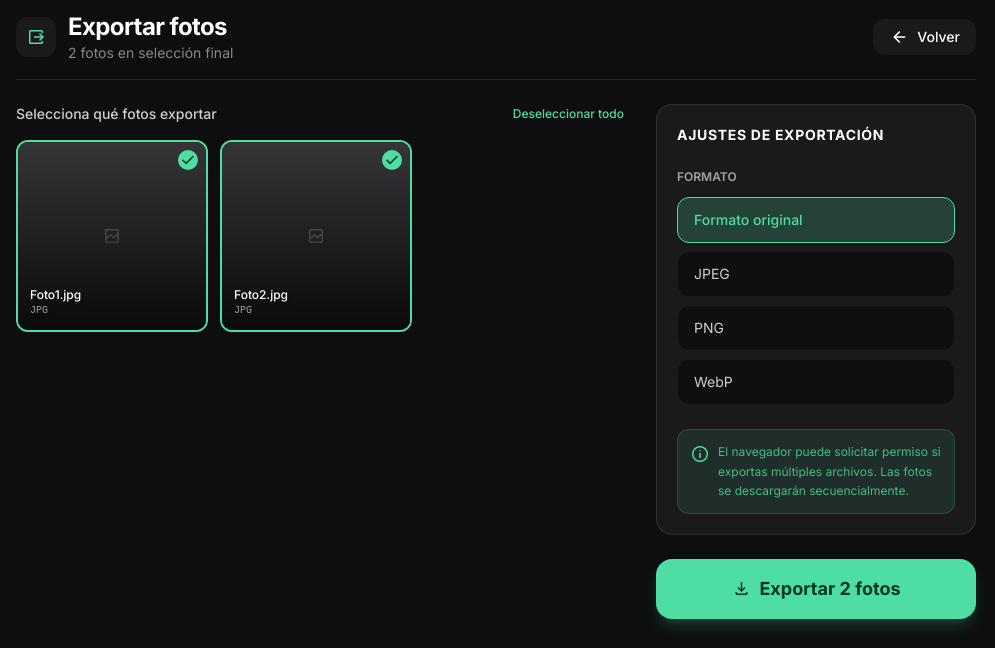
Test case: ExportUI (Phase 2.7) › 2. El botón exportar actualiza cantidad cuando se deselecciona
expect the button with test id "export-start-btn" reads "Exportar 2 fotos": met, box [656,558,976,618]
Find select all/deselect all button
What coordinates should you click on to do the following:
click the button "Deseleccionar todo"
I would click on:
 (568, 114)
Its box is [513,106,624,122].
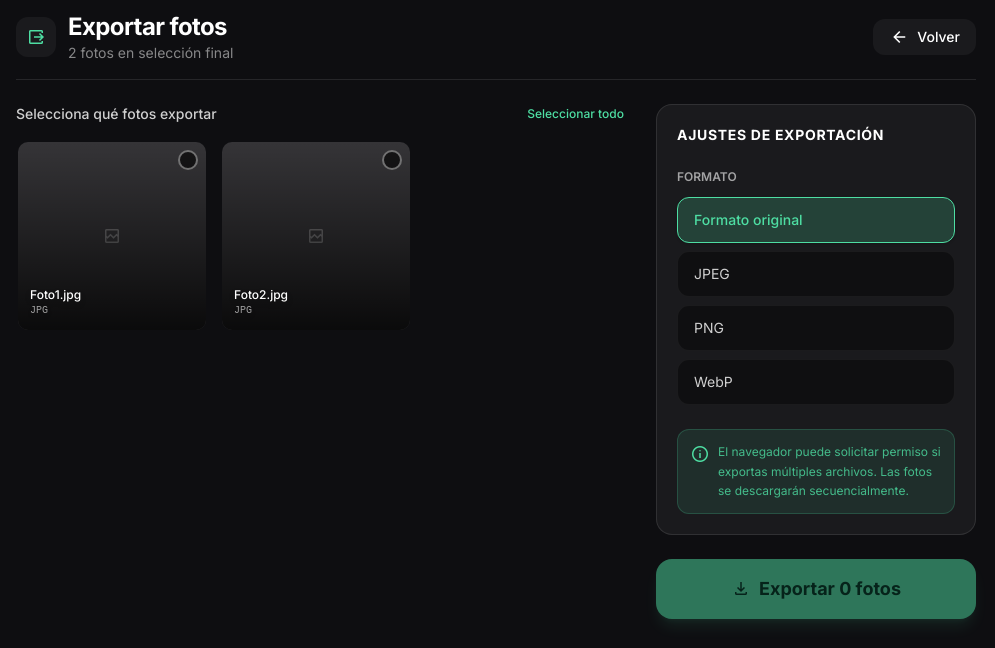
expect the button with test id "export-start-btn" is disabled: met, box [656,558,976,618]
